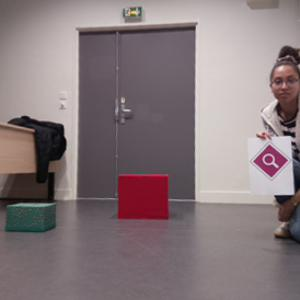search: (252, 142, 290, 180)
